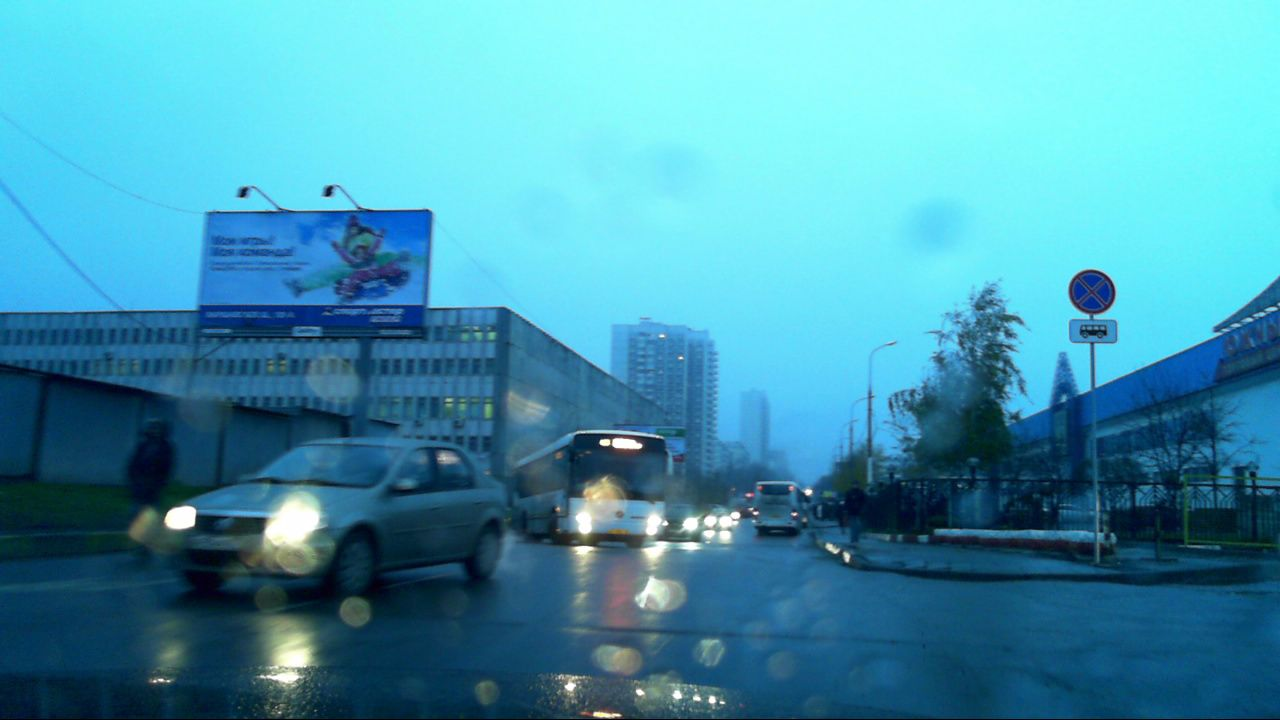No Parking: (1067, 268, 1116, 315)
